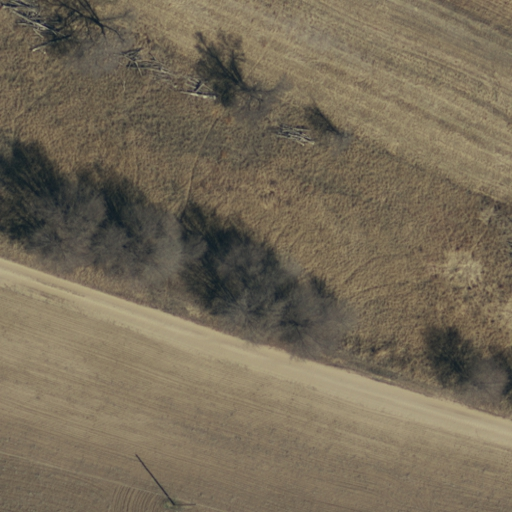DT: (166, 497, 203, 510)
